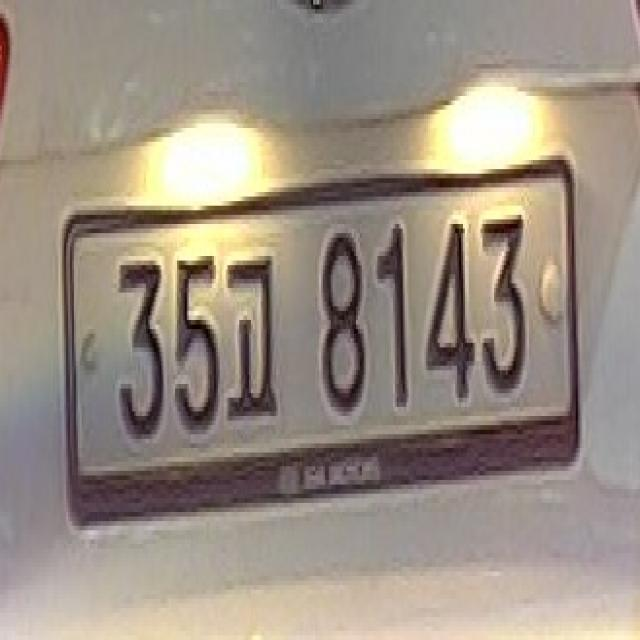1: (376, 220, 408, 412)
3: (117, 251, 165, 448), (481, 210, 529, 398)
4: (424, 220, 475, 393)
5: (171, 256, 220, 434)
8: (319, 224, 368, 416)
go: (220, 247, 280, 425)
license_plate: (68, 164, 576, 516)
